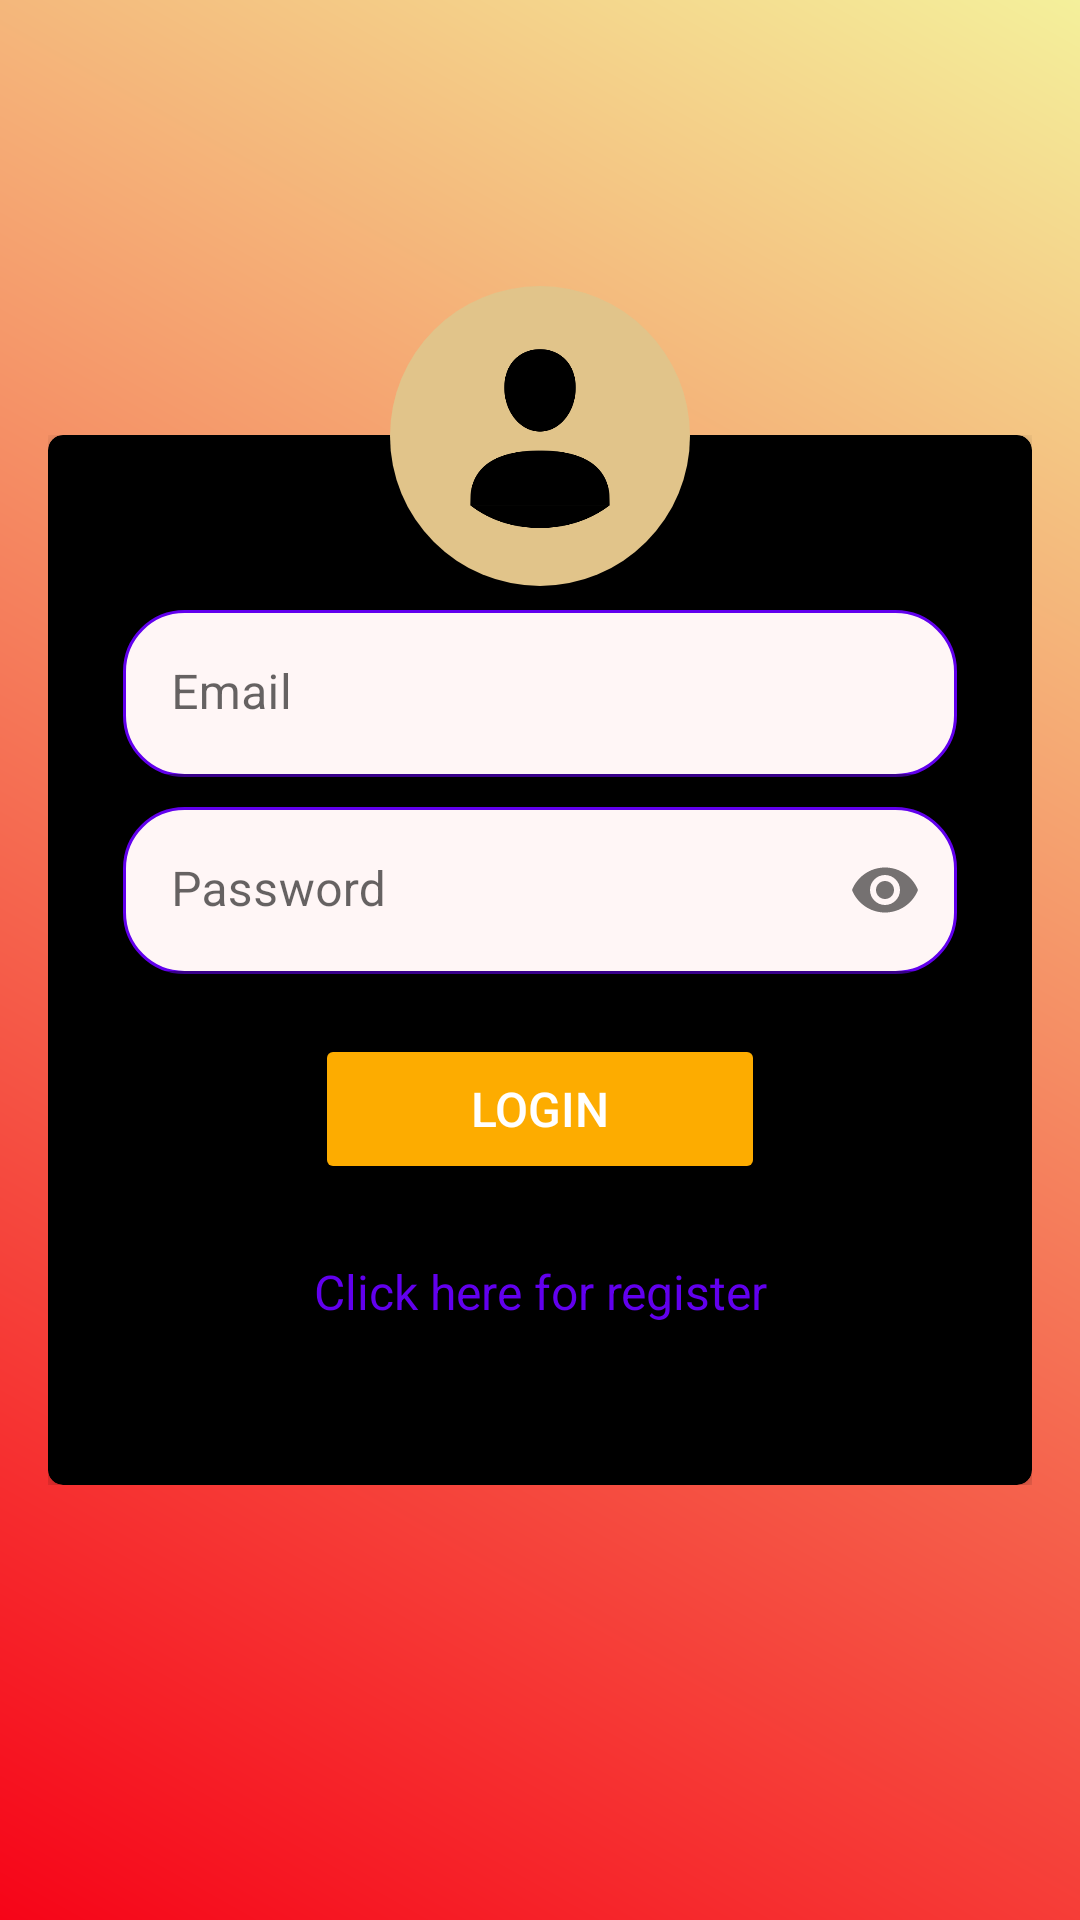

Screen size 1080*1920. Icon name, then its center in pixels as (x,y):
profile image: (540,436)
